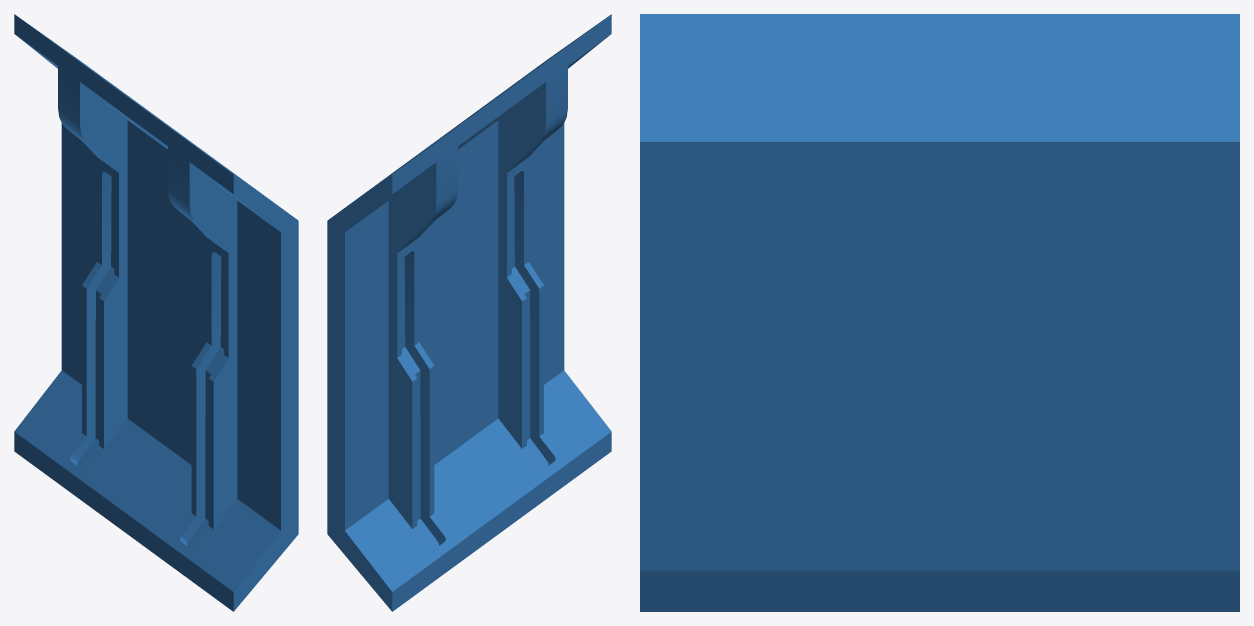
The model's file is Rooms_Wall_Line_A.FBX.
The picture shows the model from 3 angles, left to right: view 1: azimuth 30°, elevation 25°; view 2: azimuth 150°, elevation 25°; view 3: azimuth 270°, elevation 25°; orthographic projection. The views are drawn at different scales.
Parts seen in each view (by area): view 1: Rooms_Wall_Line_A; view 2: Rooms_Wall_Line_A; view 3: Rooms_Wall_Line_A.
Part boxes in pixels (bbox=[...]): Rooms_Wall_Line_A: bbox=[14, 14, 298, 611]; Rooms_Wall_Line_A: bbox=[327, 14, 611, 611]; Rooms_Wall_Line_A: bbox=[640, 14, 1239, 611].
Size of the model in its own units: 68.48 by 440 by 400.
